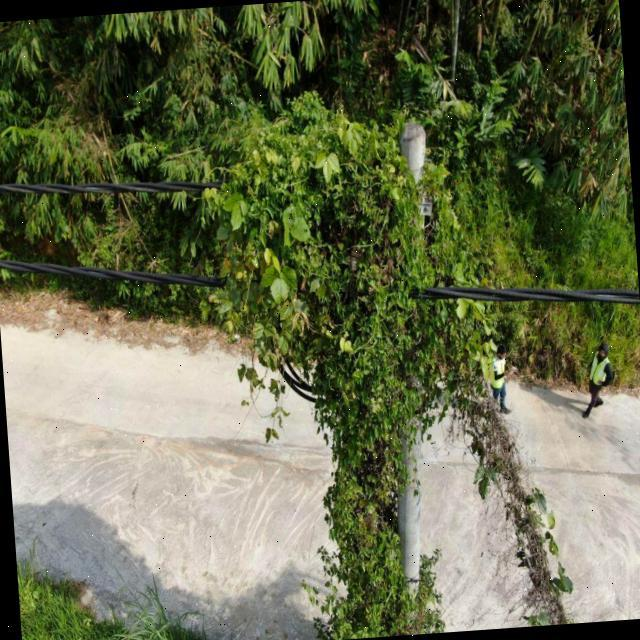critical vegetation: (216, 73, 457, 640), (440, 280, 580, 630)
